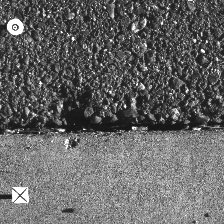circle: (6, 18, 24, 34)
crack: (1, 119, 224, 135)
square: (11, 187, 28, 203)
